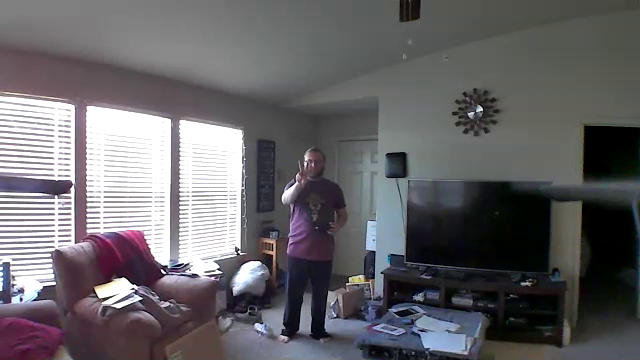peace: (292, 157, 313, 193)
